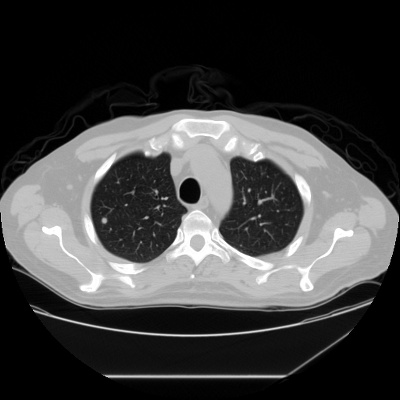PN: (100, 216, 108, 224)
